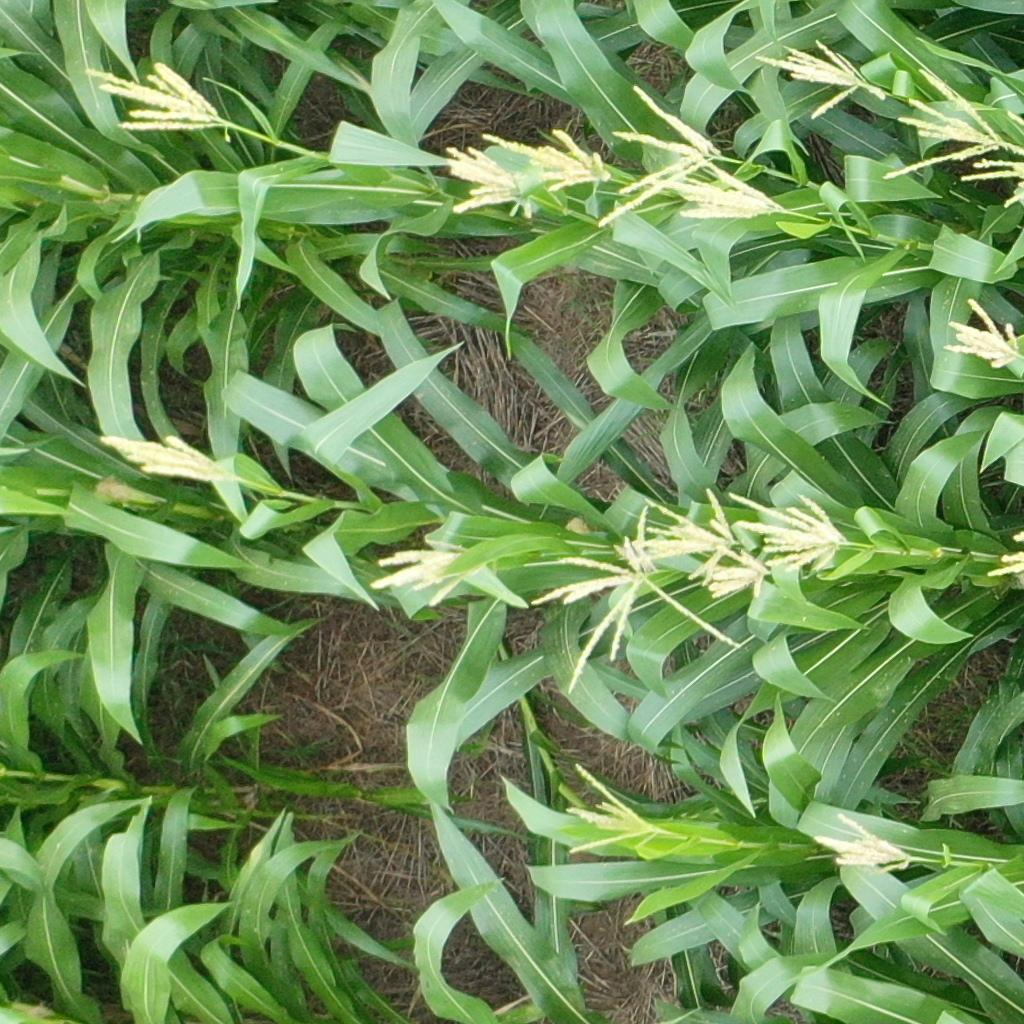Tassel: (528, 504, 743, 695), (595, 84, 721, 229), (885, 68, 1003, 178), (754, 36, 885, 119), (84, 59, 226, 130), (732, 486, 847, 573), (561, 761, 663, 856), (639, 487, 742, 577), (649, 158, 787, 223), (482, 123, 611, 191), (98, 431, 248, 485), (368, 543, 480, 610), (445, 142, 535, 220), (811, 810, 913, 876), (958, 108, 1024, 208), (945, 298, 1024, 371), (703, 546, 770, 598), (983, 528, 1024, 579)
